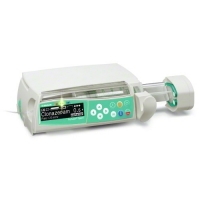BBraun Infusomat Space: (14, 65, 159, 136)
